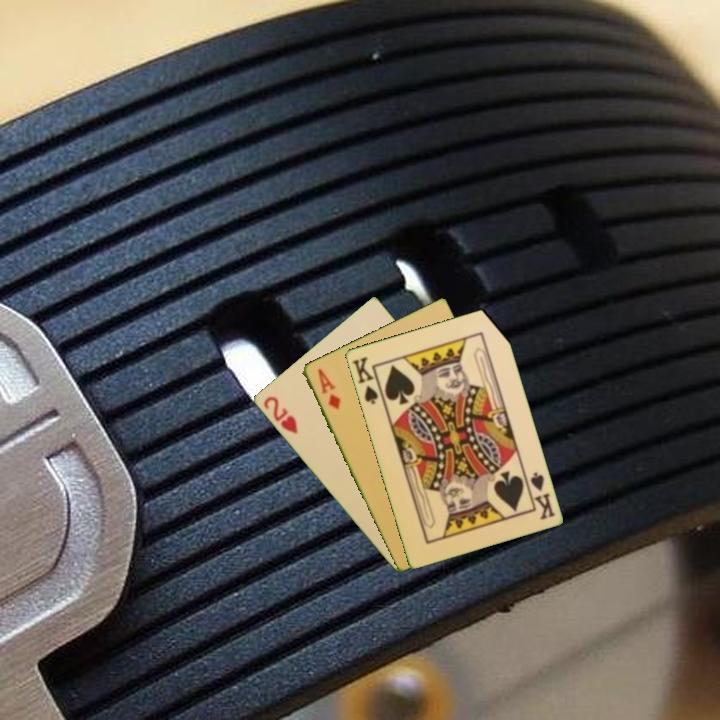2h: (259, 392, 300, 437)
Ad: (314, 364, 343, 413)
Ks: (348, 353, 386, 407), (522, 468, 558, 523)
